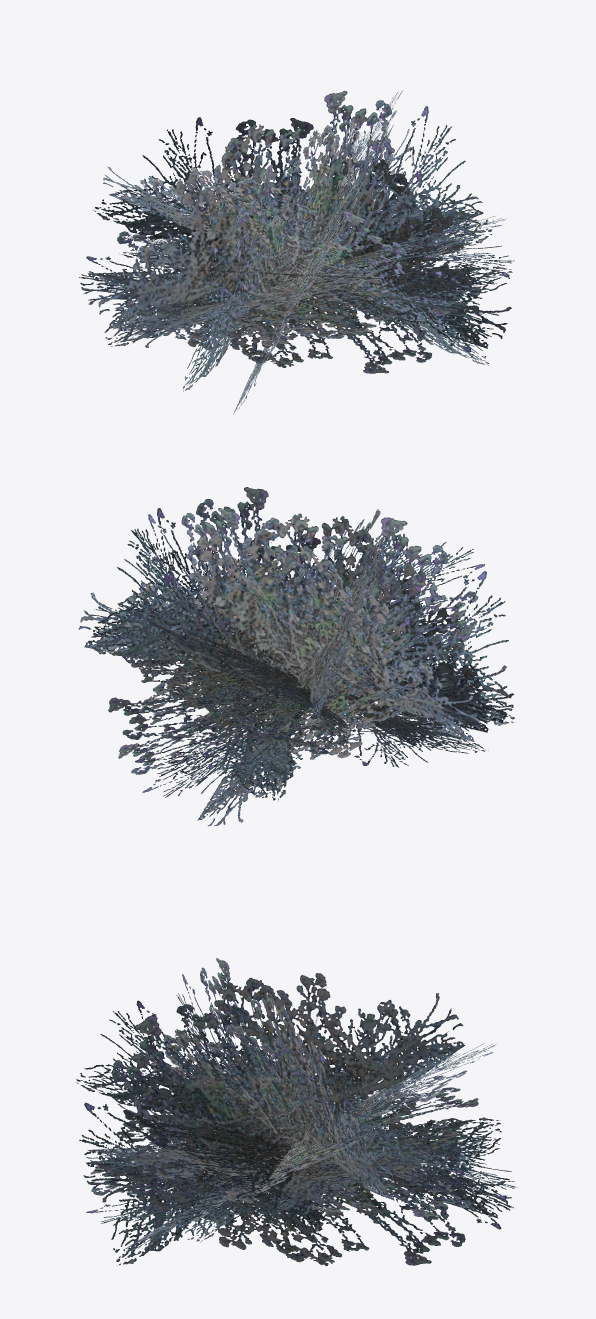
File: shrb_drybrushbush_l1.fbx
3 renders of one model, top to bottom at view 1: azimuth 30°, elevation 25°; view 2: azimuth 150°, elevation 25°; view 3: azimuth 270°, elevation 25°, orthographic. The views are drawn at different scales.
Visible parts, largest first — view 1: mesh_node; view 2: mesh_node; view 3: mesh_node.
Part boxes in pixels (left/top/right/bottom): mesh_node: left=79, top=90, right=514, bottom=414; mesh_node: left=78, top=487, right=515, bottom=826; mesh_node: left=76, top=958, right=517, bottom=1265.
Size of the model in its own units: 1.26 by 0.7072 by 1.23.
